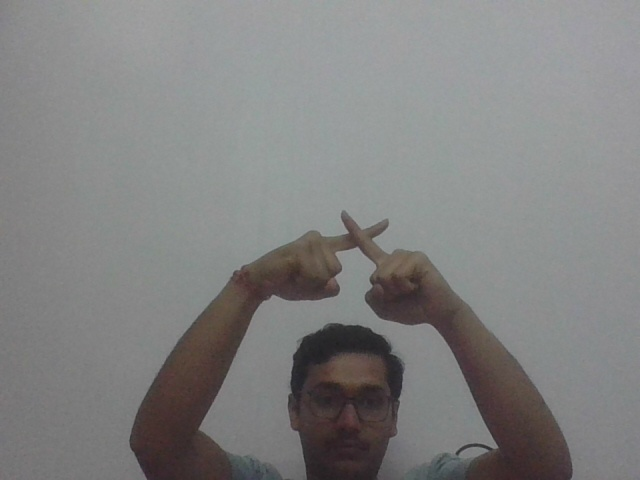X: (279, 210, 439, 323)
